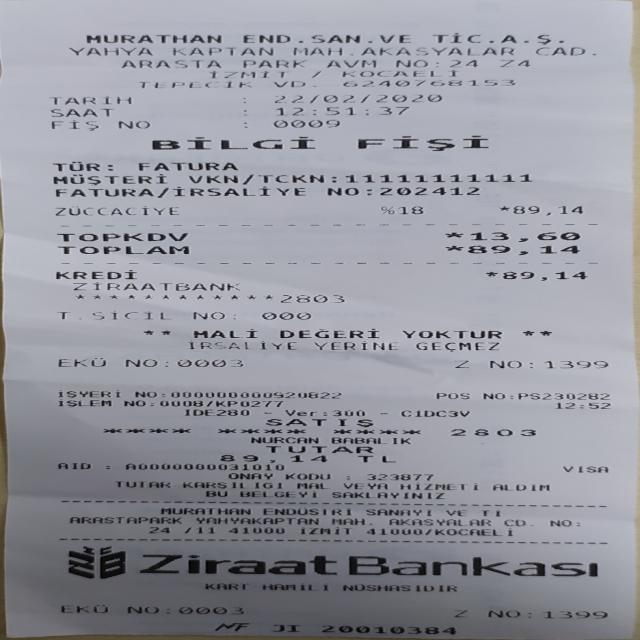text: (345, 553, 606, 578), (139, 552, 335, 576), (152, 132, 312, 151), (357, 132, 488, 151), (292, 45, 512, 56), (242, 31, 408, 45), (323, 622, 453, 637), (344, 173, 535, 183), (84, 32, 220, 46), (72, 281, 238, 292), (172, 185, 303, 198), (272, 93, 439, 103), (55, 231, 187, 243), (431, 32, 563, 44), (340, 78, 513, 87), (170, 390, 340, 399), (52, 172, 165, 185), (274, 105, 407, 116), (55, 204, 176, 216), (57, 244, 187, 255), (124, 462, 282, 471), (470, 230, 579, 242), (138, 159, 236, 172), (379, 184, 477, 197), (279, 327, 377, 340), (402, 327, 499, 340), (55, 186, 151, 198), (138, 79, 250, 89), (331, 490, 442, 500), (194, 516, 317, 525), (172, 45, 272, 56), (187, 340, 295, 350), (264, 417, 371, 427), (219, 454, 325, 464), (54, 311, 170, 320), (341, 69, 454, 78), (68, 515, 180, 524), (120, 58, 220, 68), (346, 583, 456, 592), (56, 268, 136, 280), (68, 45, 152, 56), (503, 270, 586, 281), (314, 340, 396, 351), (414, 341, 496, 352), (193, 326, 256, 340), (264, 445, 371, 453), (390, 517, 485, 526), (450, 427, 533, 437), (512, 204, 581, 216), (47, 95, 129, 105), (517, 392, 608, 401), (260, 172, 322, 185), (271, 118, 338, 130), (178, 604, 242, 616), (240, 489, 315, 499), (280, 292, 342, 304), (158, 506, 250, 514), (261, 508, 349, 516), (399, 482, 479, 490), (175, 359, 246, 368), (49, 107, 112, 117), (544, 359, 607, 369), (542, 609, 605, 619), (242, 58, 304, 68), (208, 70, 284, 78), (332, 436, 408, 444), (436, 528, 512, 536), (52, 159, 98, 172), (49, 119, 98, 131), (58, 355, 103, 368), (112, 479, 170, 489), (188, 172, 232, 185), (260, 582, 331, 590), (232, 480, 286, 490), (492, 482, 546, 492), (60, 602, 105, 614), (535, 45, 583, 56), (215, 399, 281, 407), (251, 436, 317, 444), (183, 408, 248, 416), (365, 508, 430, 516), (367, 472, 431, 480), (367, 527, 423, 536), (262, 310, 310, 320), (302, 526, 354, 535), (467, 244, 509, 255), (180, 480, 226, 490), (401, 410, 466, 417), (204, 581, 245, 592), (342, 481, 386, 491), (228, 526, 283, 534), (115, 118, 148, 131), (539, 244, 578, 255), (57, 399, 109, 407), (326, 184, 356, 197), (357, 454, 394, 464), (127, 603, 157, 615), (284, 472, 328, 480), (126, 356, 155, 368), (488, 359, 521, 369), (554, 402, 608, 408), (394, 58, 426, 68), (272, 78, 304, 88), (192, 310, 224, 320), (487, 609, 518, 619), (228, 472, 272, 479), (295, 480, 325, 490), (158, 400, 200, 407), (398, 204, 422, 216), (436, 391, 468, 400), (274, 621, 296, 634), (331, 409, 366, 417), (284, 409, 318, 417), (562, 466, 606, 472), (332, 517, 361, 525), (479, 509, 504, 518), (58, 462, 89, 469), (444, 231, 463, 242), (205, 489, 226, 498), (445, 244, 462, 255), (483, 391, 503, 400), (504, 518, 524, 527), (134, 390, 156, 398), (549, 518, 570, 526), (380, 204, 393, 216), (330, 171, 341, 185), (124, 399, 143, 407), (148, 526, 169, 533), (246, 172, 257, 185), (155, 185, 166, 198), (452, 609, 466, 619), (196, 526, 213, 534), (484, 270, 496, 281), (498, 204, 508, 216), (455, 359, 467, 369), (445, 509, 462, 516), (310, 69, 320, 79), (518, 244, 526, 255), (365, 184, 371, 197), (243, 118, 249, 129), (107, 159, 112, 172), (577, 518, 585, 526), (528, 518, 535, 526), (263, 409, 270, 416), (149, 399, 155, 407), (206, 399, 212, 407), (427, 528, 433, 536), (591, 45, 595, 56), (322, 409, 328, 416), (380, 409, 386, 416), (528, 359, 532, 369), (158, 391, 163, 398), (241, 105, 244, 116), (312, 78, 315, 88), (164, 356, 166, 368), (434, 58, 436, 68), (527, 609, 529, 619), (509, 391, 511, 400), (105, 462, 107, 470), (347, 472, 349, 480), (242, 93, 243, 104), (167, 604, 168, 615), (233, 310, 234, 320)
